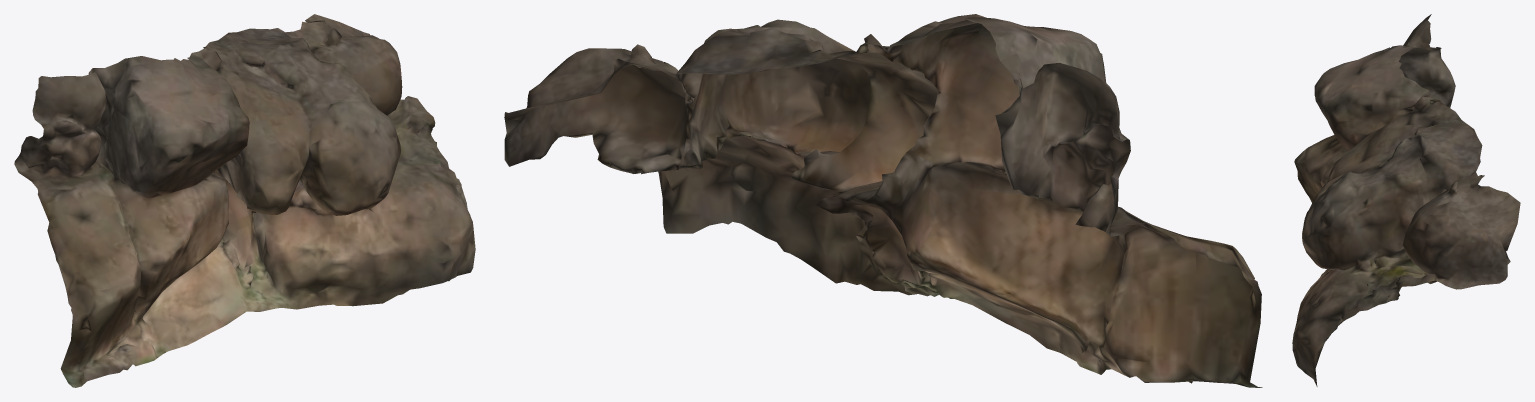
The model's file is ph-namaqualand-cliff-01.lod1.glb.
3 views of the same model, side by side, from view 1: azimuth 30°, elevation 25°; view 2: azimuth 150°, elevation 25°; view 3: azimuth 270°, elevation 25° (orthographic). The views are drawn at different scales.
Visible parts, largest first — view 1: drone_rock_01; view 2: drone_rock_01; view 3: drone_rock_01.
Part boxes in pixels (left/top/right/bottom): drone_rock_01: left=14, top=14, right=475, bottom=387; drone_rock_01: left=504, top=14, right=1262, bottom=387; drone_rock_01: left=1292, top=14, right=1520, bottom=386.
Size of the model in its own units: 10.84 by 6.5 by 5.74.
Materials: 1 (1 with a texture image).
